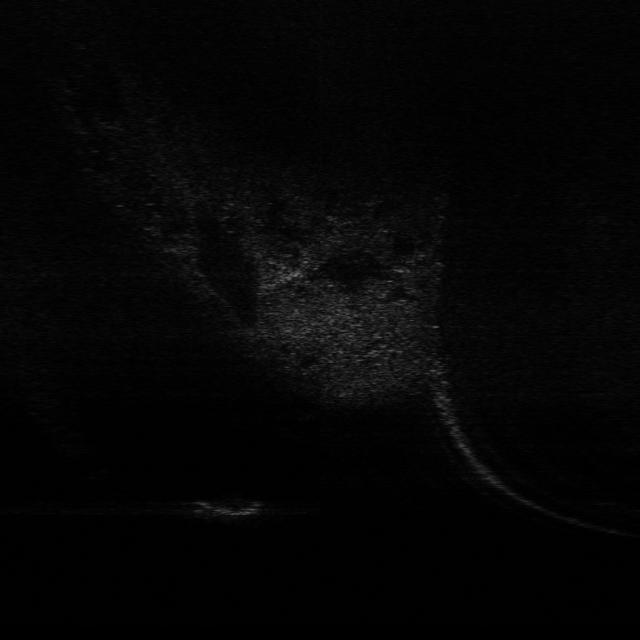cube: (183, 494, 281, 526)
